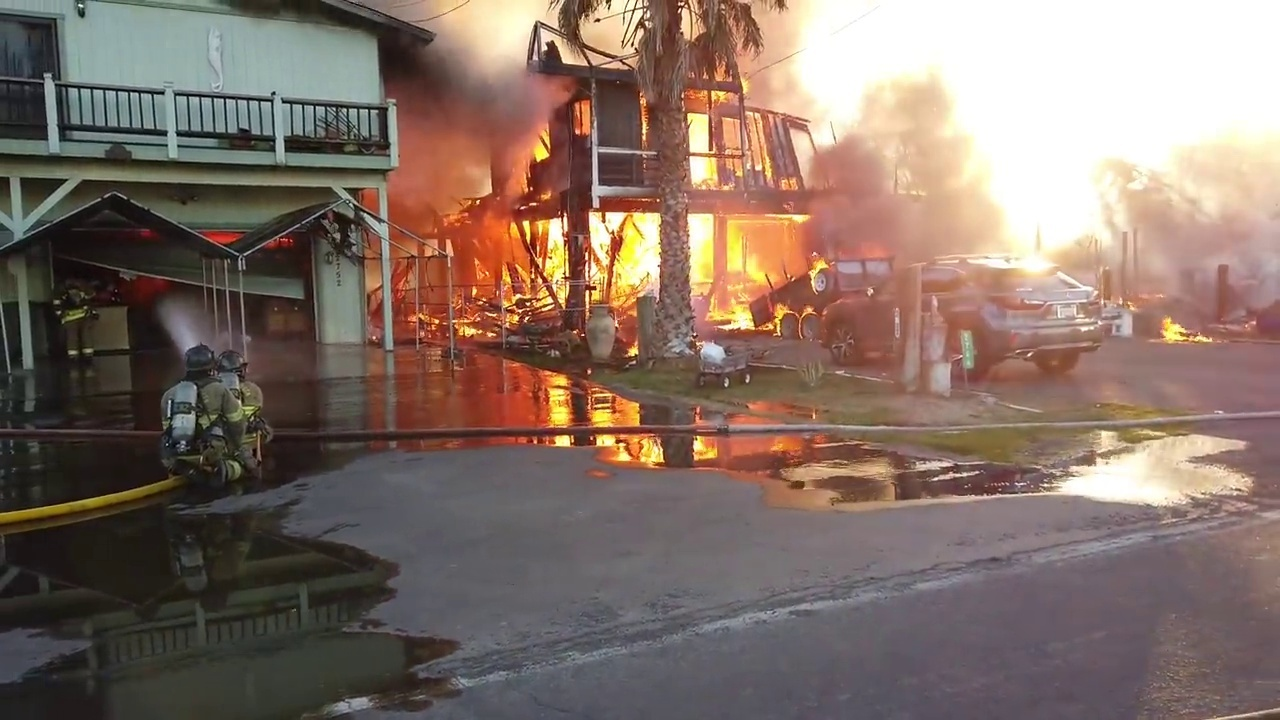fire: (627, 82, 800, 188), (503, 203, 657, 308), (701, 215, 768, 324), (1152, 314, 1217, 342), (775, 307, 821, 342), (119, 273, 170, 304), (197, 223, 244, 248), (264, 234, 298, 254), (138, 227, 159, 245), (623, 339, 639, 357)
smoke: (796, 36, 1024, 263), (1139, 71, 1280, 285), (394, 46, 577, 201), (996, 157, 1128, 270), (391, 205, 503, 288)
